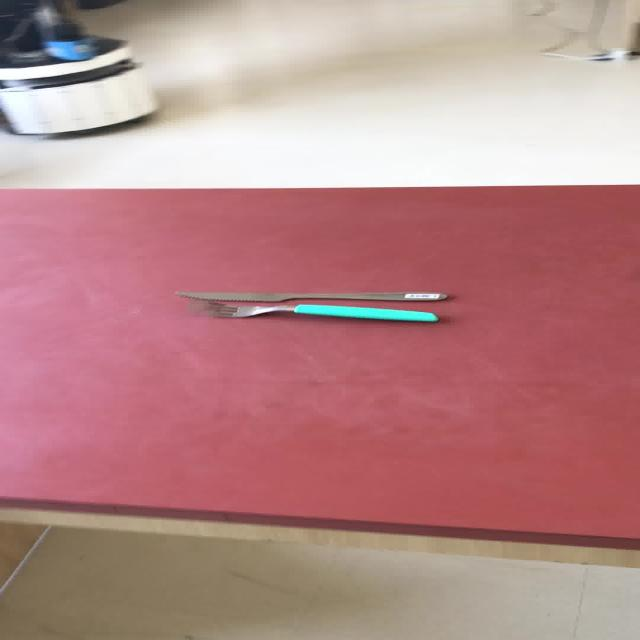fork: (206, 302, 439, 323)
knife fork: (172, 290, 448, 302)
